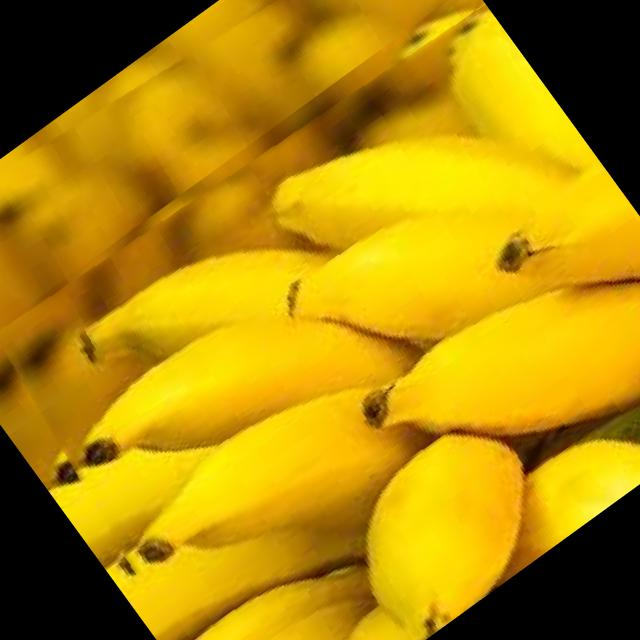Organic: (0, 0, 640, 640), (0, 0, 470, 358)
